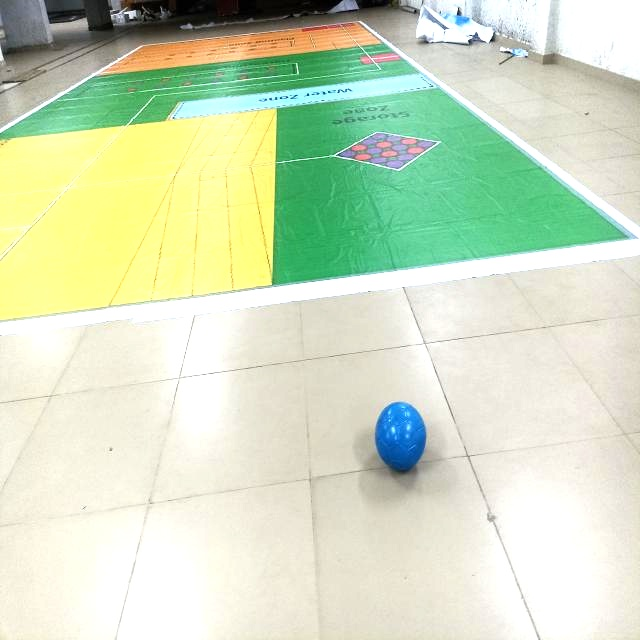blue_ball: (374, 399, 430, 478)
